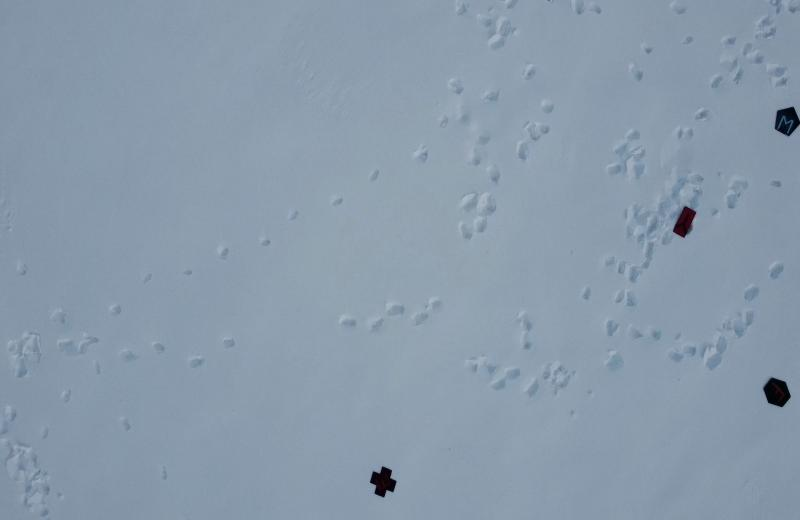Cross: (367, 463, 397, 500)
Hexagon: (764, 372, 792, 410)
Pentagon: (770, 101, 800, 141)
Rectangle: (668, 202, 698, 239)
